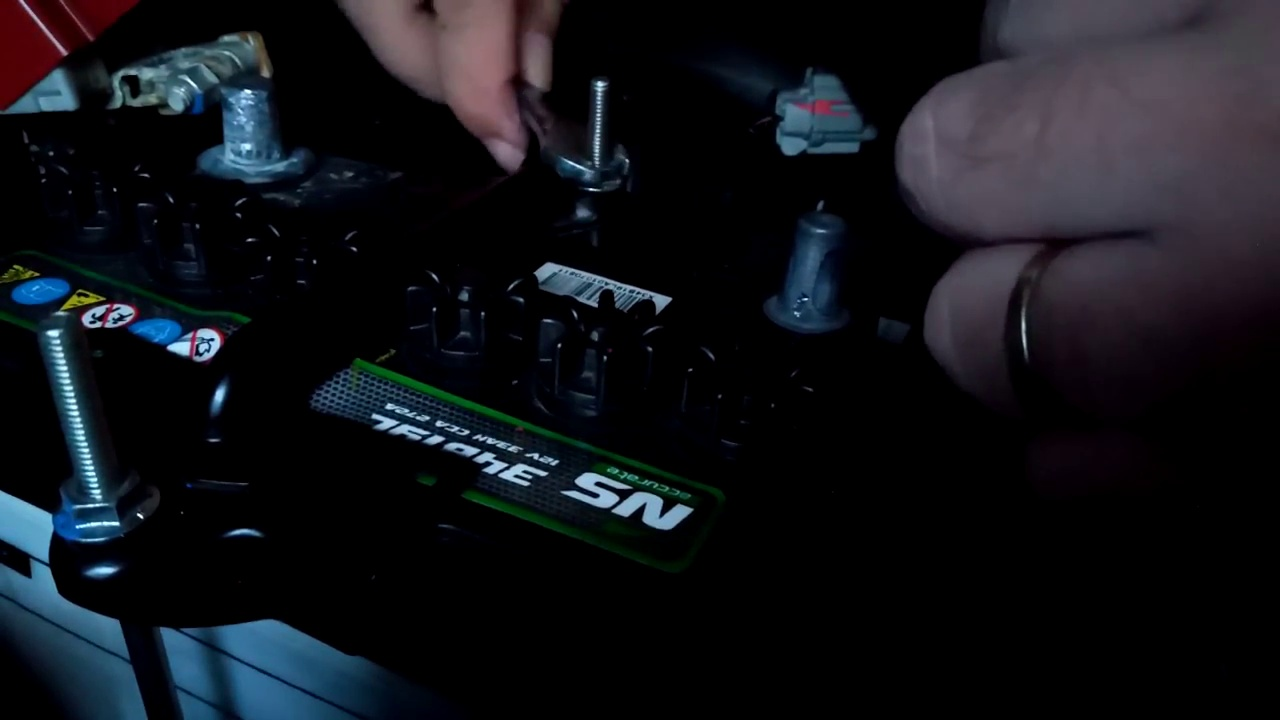battery: (3, 14, 937, 665)
